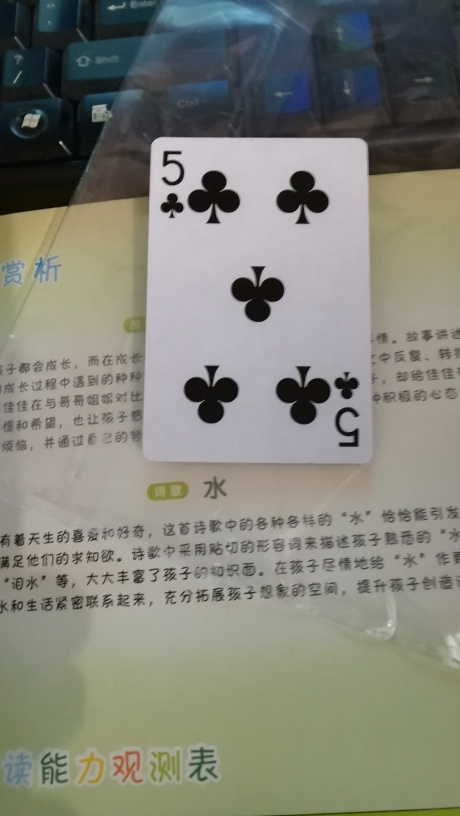mh 5: (139, 127, 374, 464)
